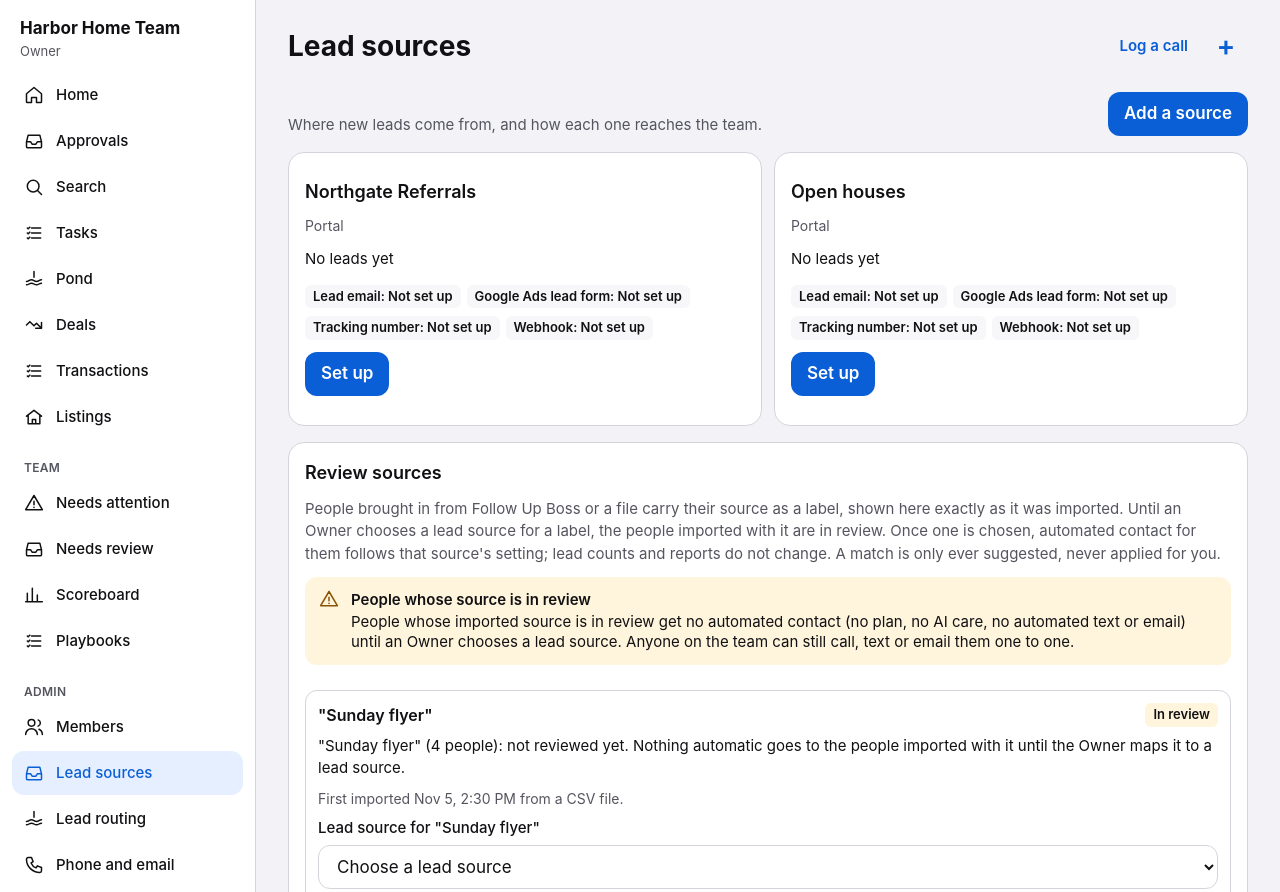
R-LSRC-10 W2: the source review on the Lead sources page › R-LSRC-10 E751 E742: a lead source that already holds 200 labels is said in a plain sentence, with the way out
The image size is (1280, 892).
Select "Open houses" in the dropdown labelled "Lead source for \"Sunday flyer\"". click: point(768, 867)
box: [318,845,1218,889]
(page scrolled)
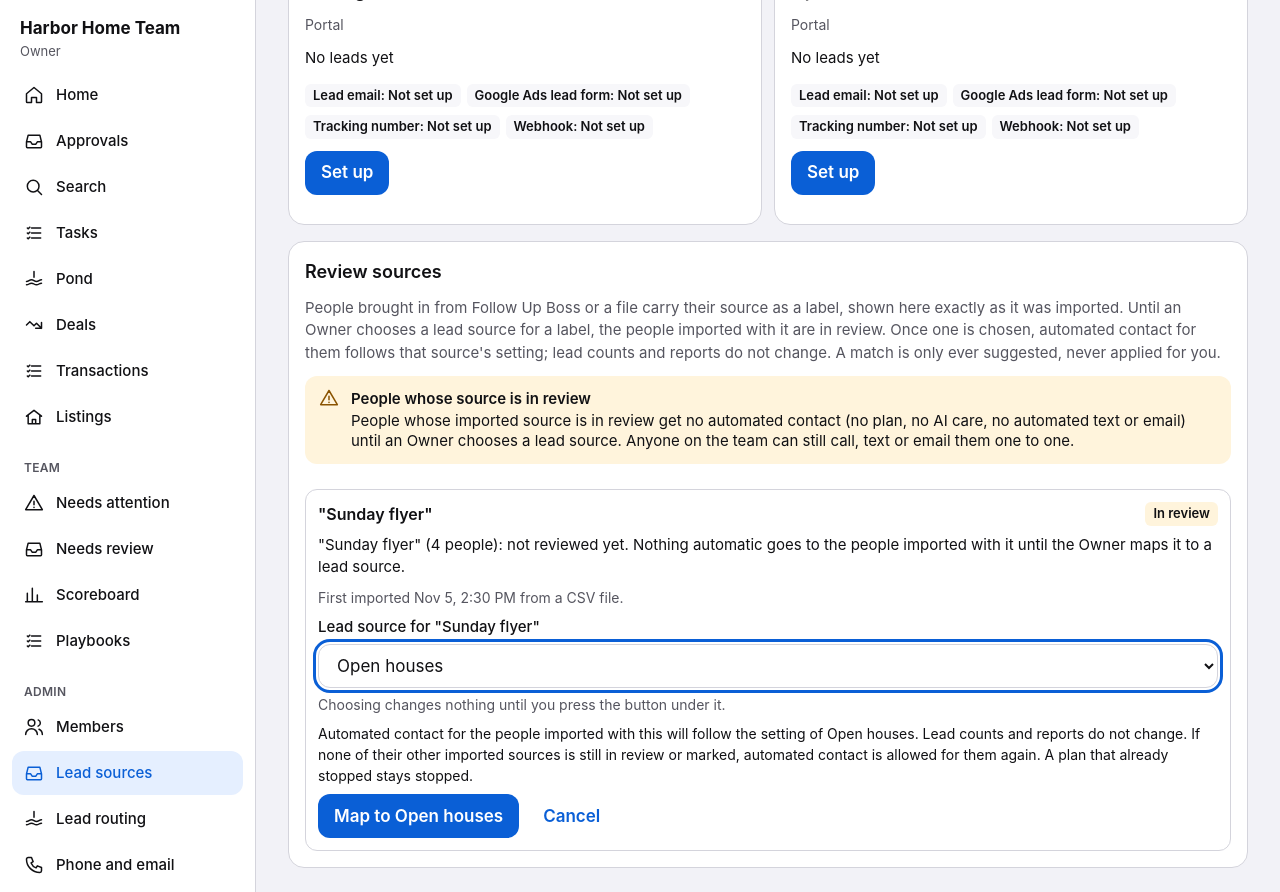
Click the button "Map to Open houses". click: point(419, 816)
box: [318,794,519,838]
(page scrolled)
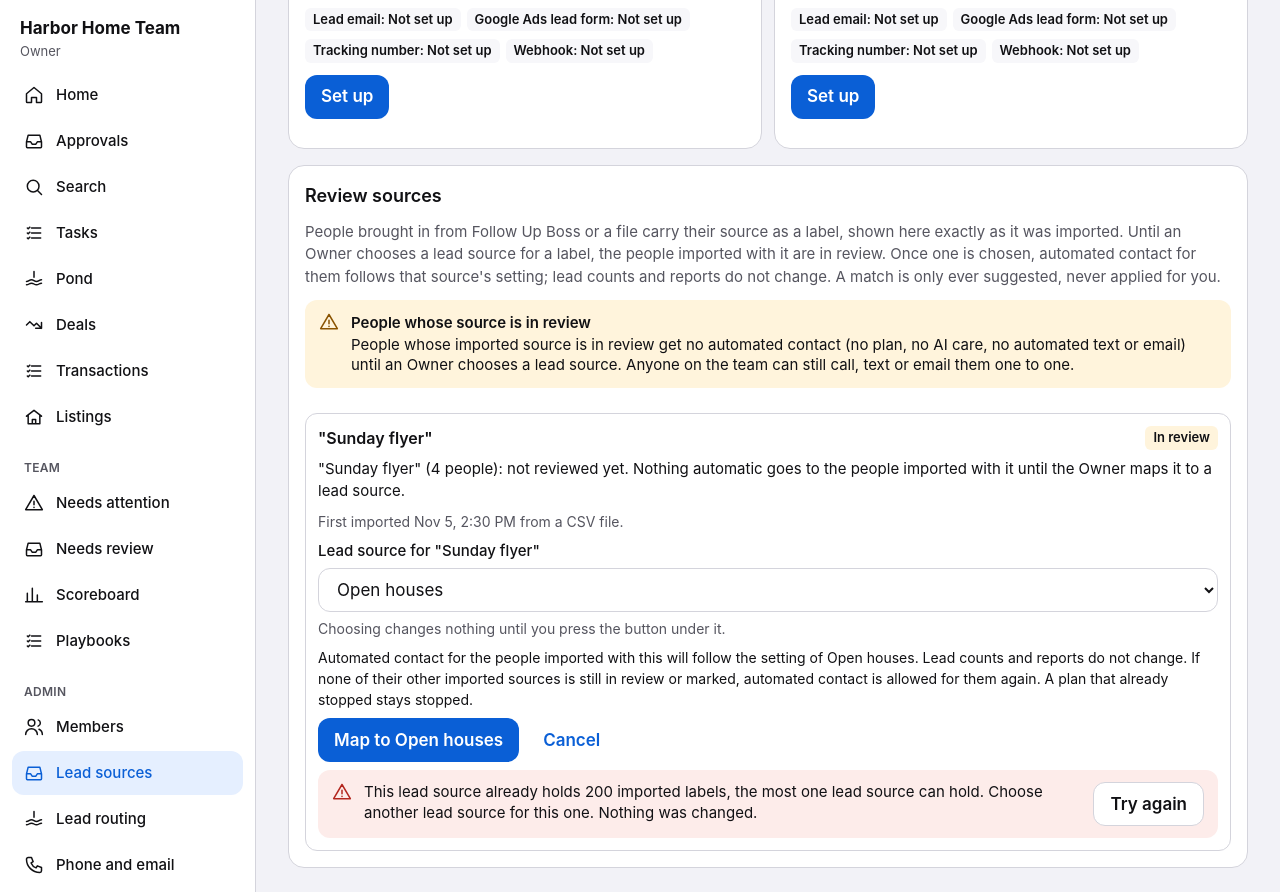
Result: the text "This lead source already holds 200 imported labels, the most one lead source can hold. Choose another lead source for th" is shown at [364,782,1081,824]
